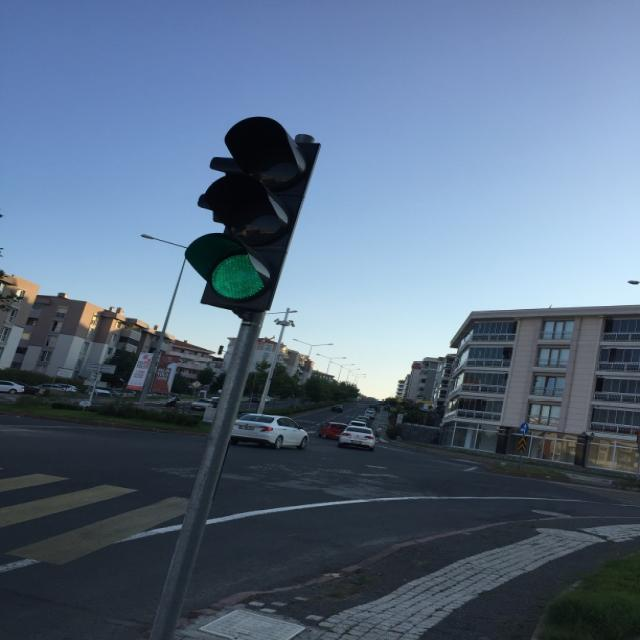yesil: (203, 115, 302, 311)
